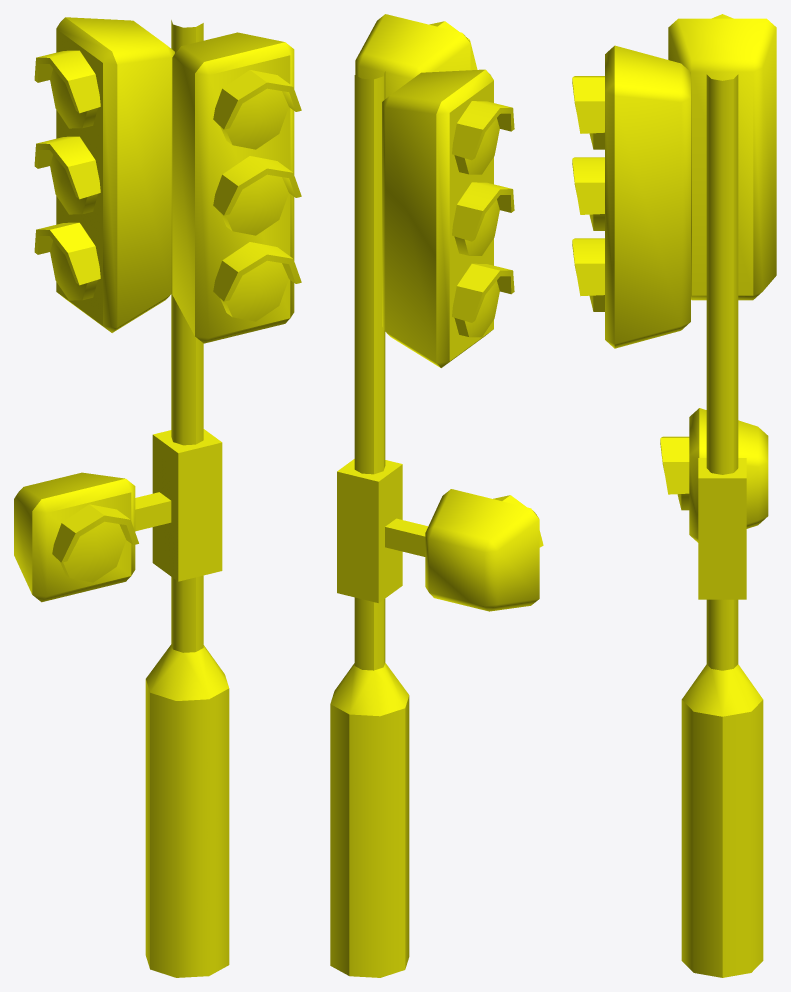
The model's file is kaykit-trafficlight-a.glb.
3 views of the same model, side by side, from view 1: azimuth 30°, elevation 25°; view 2: azimuth 150°, elevation 25°; view 3: azimuth 270°, elevation 25° (orthographic). The views are drawn at different scales.
Visible parts, largest first — view 1: trafficlight_A; view 2: trafficlight_A; view 3: trafficlight_A.
Part boxes in pixels (<box>): trafficlight_A: <box>14,17,301,977</box>; trafficlight_A: <box>330,14,543,977</box>; trafficlight_A: <box>572,14,776,977</box>.
Size of the model in its own units: 0.1745 by 0.7295 by 0.1506.
